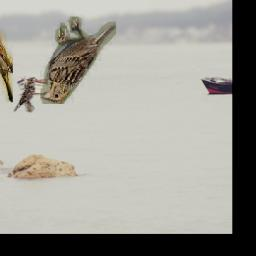Sparrow: (41, 17, 117, 105), (0, 21, 13, 102), (14, 77, 35, 113)
